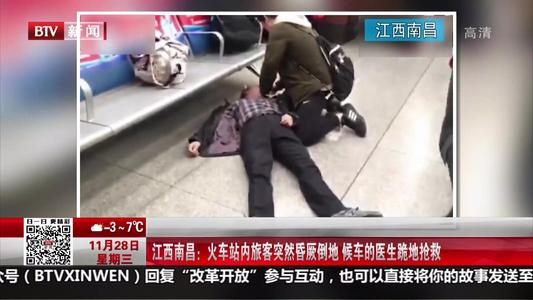fall: (184, 80, 386, 218)
